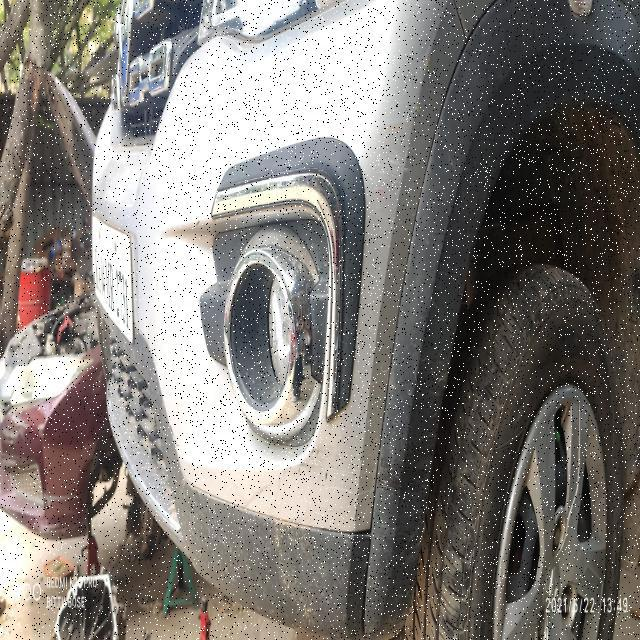front-bumper-dent: (163, 380, 377, 630)
